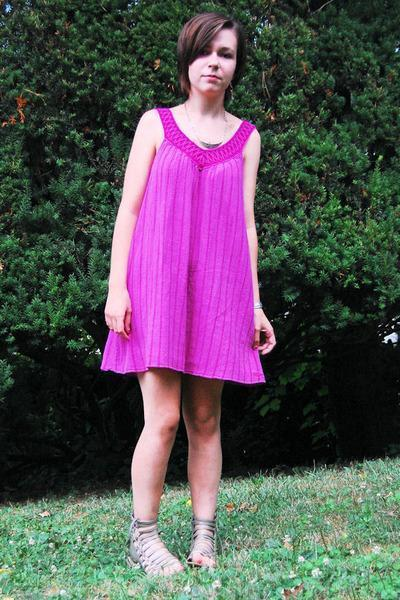dress: (101, 108, 265, 383)
shoe: (132, 517, 215, 581)
